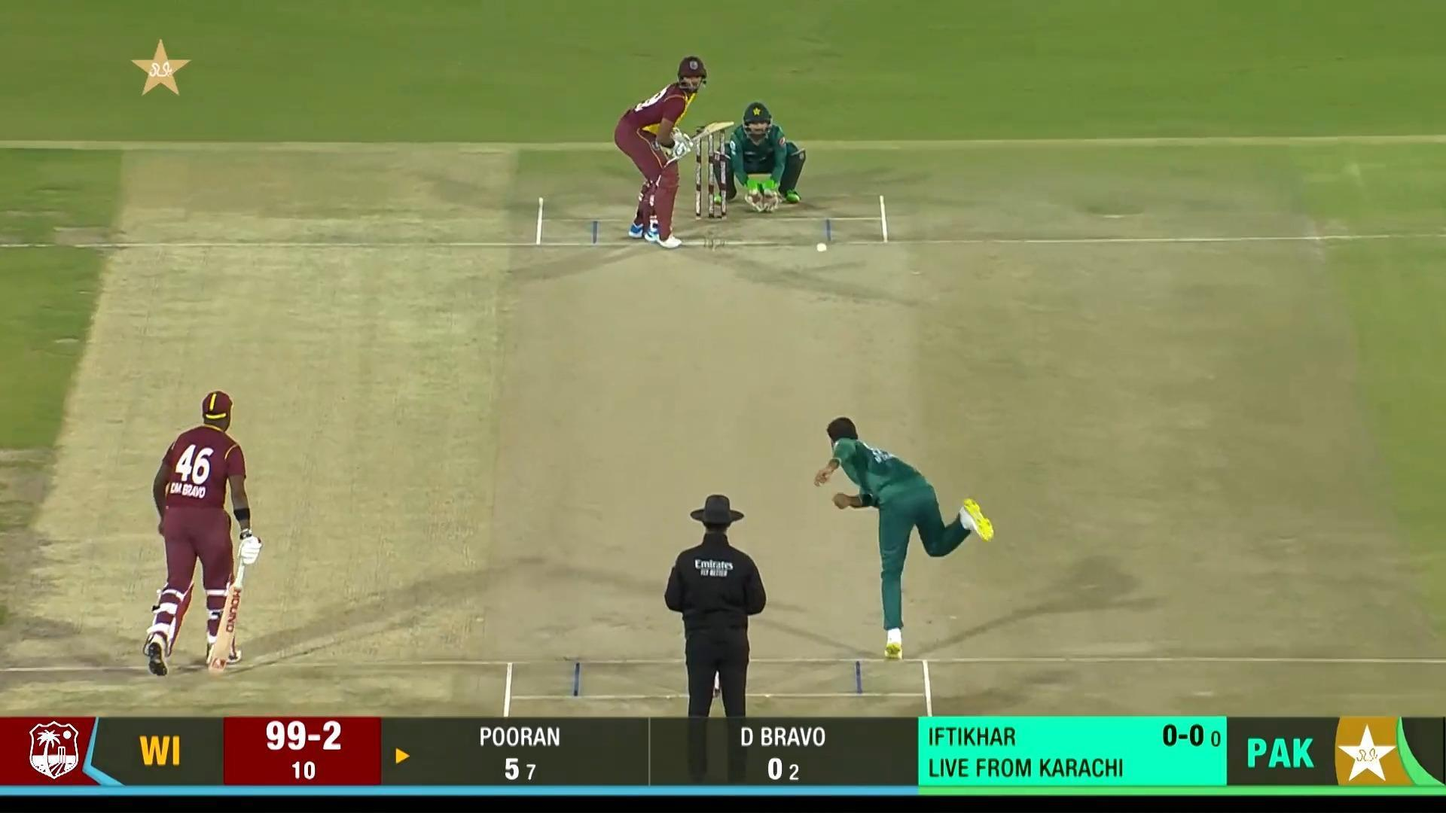BM 1: (614, 56, 736, 250)
BO: (812, 415, 996, 662)
